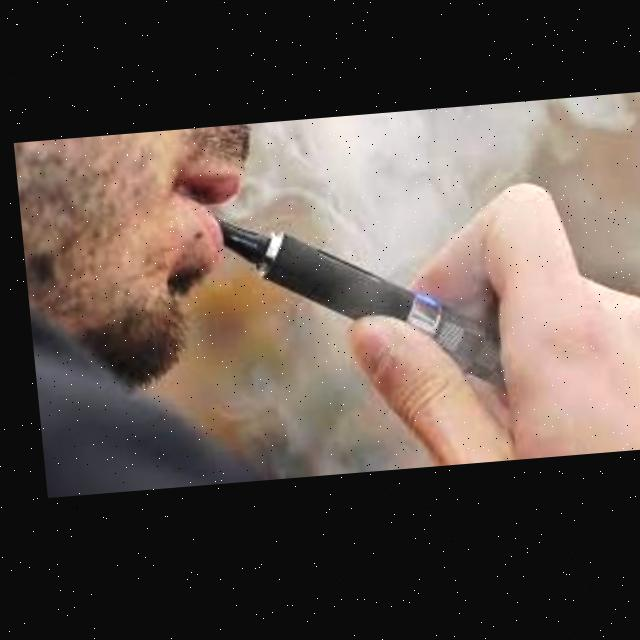vape: (210, 205, 496, 415)
